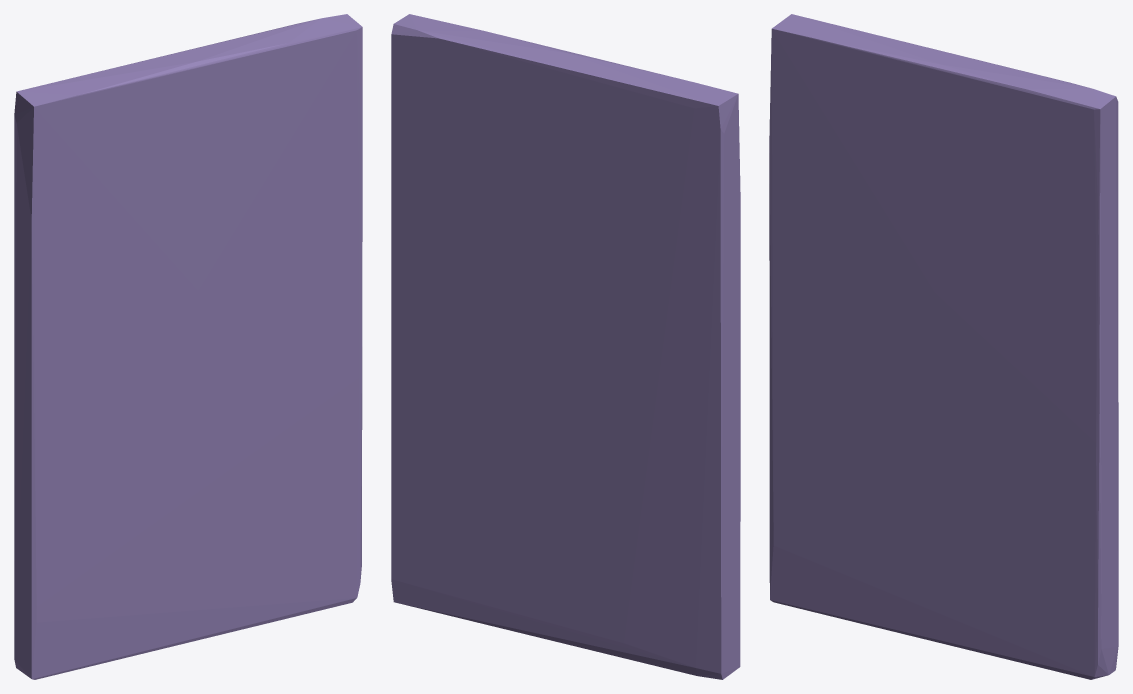
The model's file is pallet_drum_wood_recycled_a07.glb.
3 renders of one model, left to right at view 1: azimuth 30°, elevation 25°; view 2: azimuth 150°, elevation 25°; view 3: azimuth 330°, elevation 25°, orthographic.
Parts seen in each view (by area): view 1: geometry_0; view 2: geometry_0; view 3: geometry_0.
Boxes of the visible parts, x1,y1,x2,y2 form: geometry_0: (14, 14, 362, 679); geometry_0: (391, 14, 740, 679); geometry_0: (769, 14, 1118, 679).
Size of the model in its own units: 0.2883 by 0.4797 by 0.0291.
